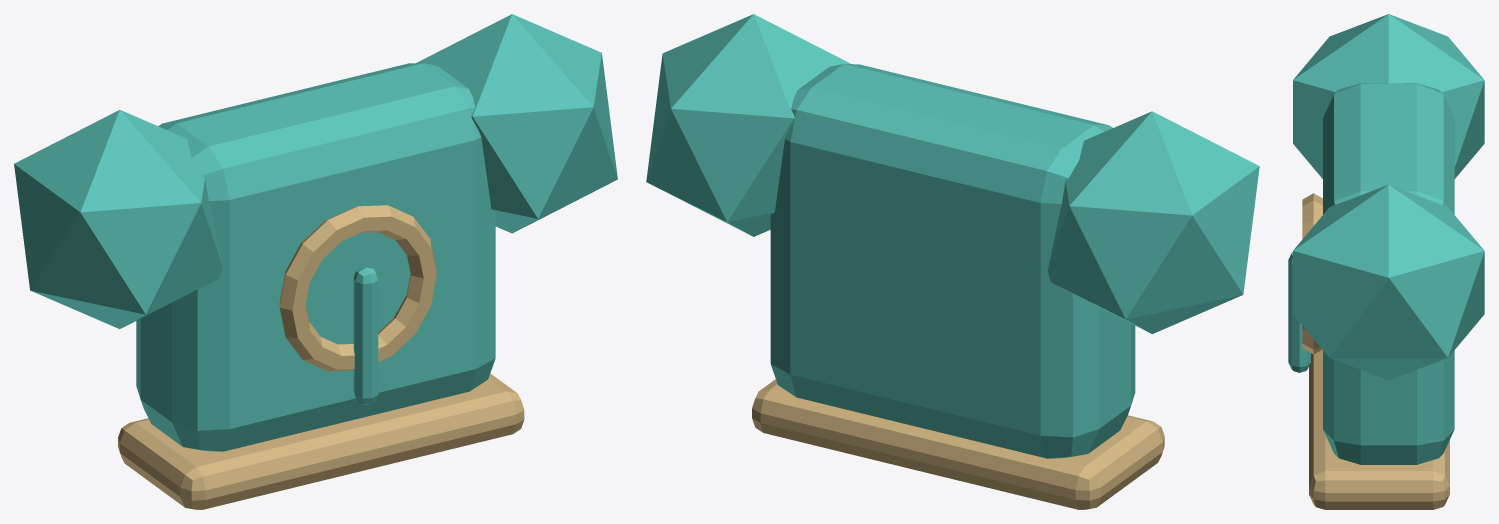
The model's file is arm_anchor_armor.glb.
3 renders of one model, left to right at view 1: azimuth 30°, elevation 25°; view 2: azimuth 150°, elevation 25°; view 3: azimuth 270°, elevation 25°, orthographic. The views are drawn at different scales.
Parts seen in each view (by area): view 1: arm_anchor_armor; view 2: arm_anchor_armor; view 3: arm_anchor_armor.
Boxes of the visible parts, x1,y1,x2,y2 form: arm_anchor_armor: (14,14,617,509); arm_anchor_armor: (646,14,1259,509); arm_anchor_armor: (1288,14,1484,509).
Size of the model in its own units: 1.25 by 0.805 by 0.4182.
